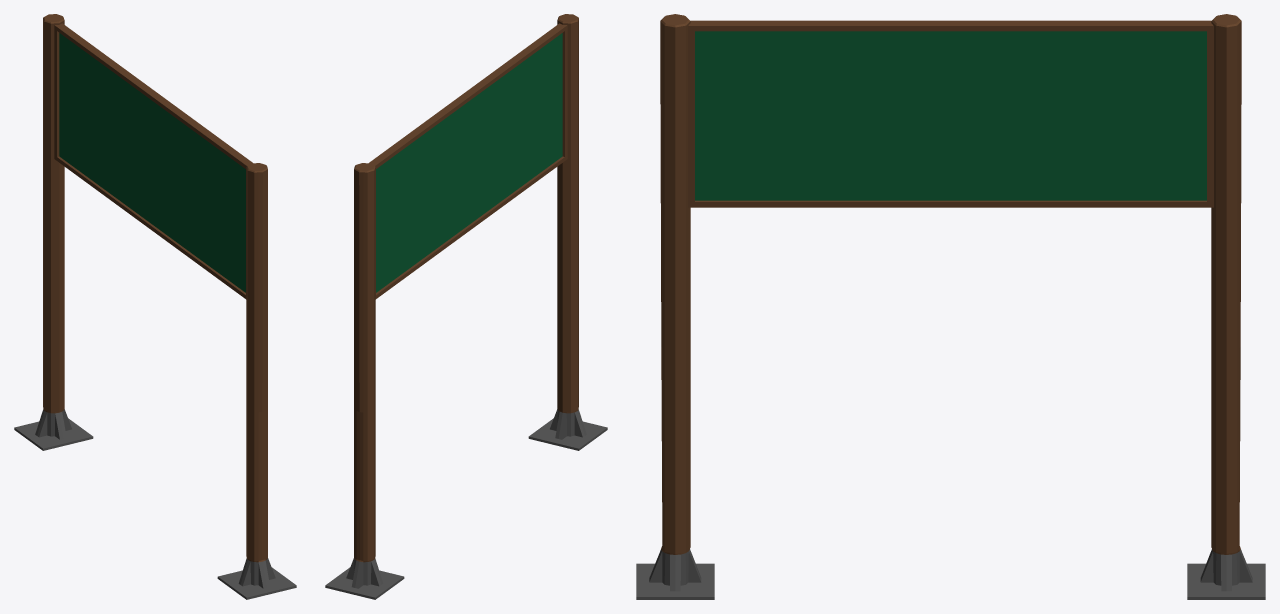
Rendered from Cartel.fbx.
3 views of the same model, side by side, from view 1: azimuth 30°, elevation 25°; view 2: azimuth 150°, elevation 25°; view 3: azimuth 270°, elevation 25° (orthographic). The views are drawn at different scales.
Visible parts, largest first — view 1: Cartel grande; view 2: Cartel grande; view 3: Cartel grande.
Boxes of the visible parts, box(x1,y1,x2,y2) form: Cartel grande: box(14, 14, 296, 599); Cartel grande: box(325, 14, 607, 599); Cartel grande: box(636, 14, 1265, 599).
Size of the model in its own units: 42.63 by 339 by 343.
